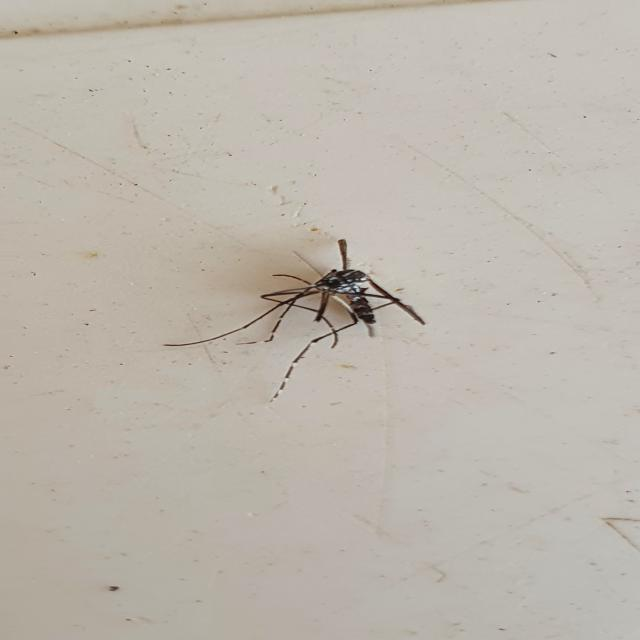albopictus: (169, 239, 440, 404)
